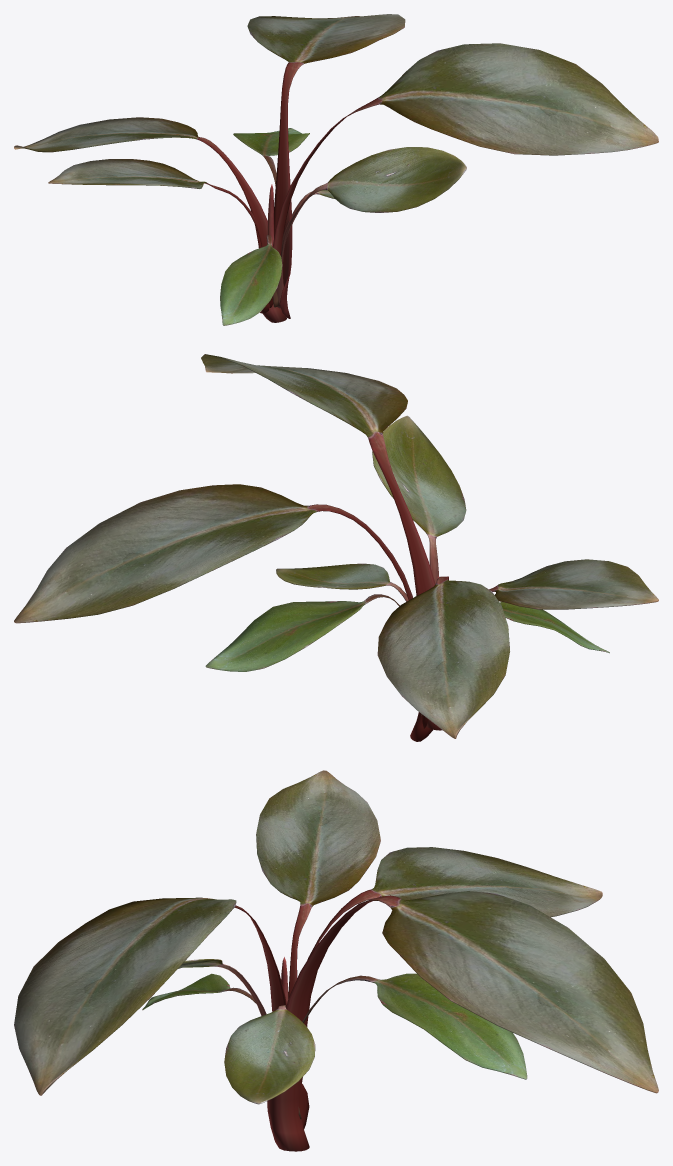
File: philodendron rojo congo.fbx
3 views of the same model, one above another, from view 1: azimuth 30°, elevation 25°; view 2: azimuth 150°, elevation 25°; view 3: azimuth 270°, elevation 25° (orthographic). The views are drawn at different scales.
Parts seen in each view (by area): view 1: philodendron rojo congo; view 2: philodendron rojo congo; view 3: philodendron rojo congo.
Part boxes in pixels (box(x1,y1,x2,y2)): philodendron rojo congo: box(14, 14, 658, 325); philodendron rojo congo: box(14, 354, 658, 741); philodendron rojo congo: box(14, 770, 658, 1151).
Size of the model in its own units: 633 by 307 by 535.
Materials: 4 (4 with a texture image).
